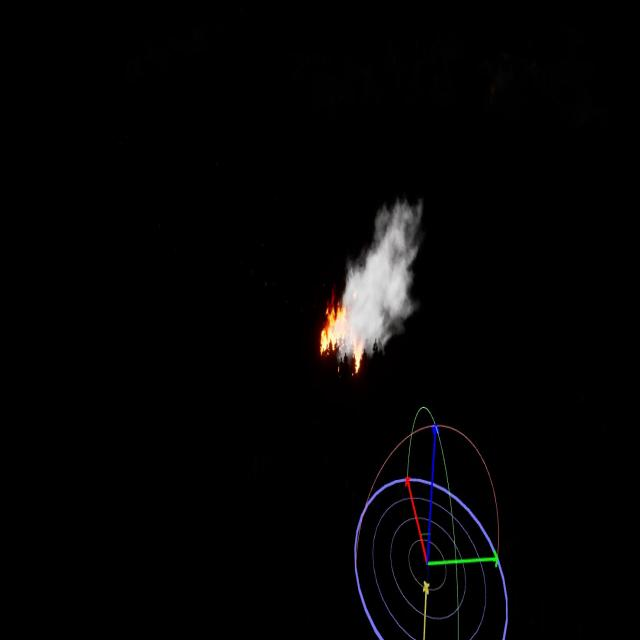fire: (320, 298, 365, 378)
smoke: (343, 193, 419, 361)
